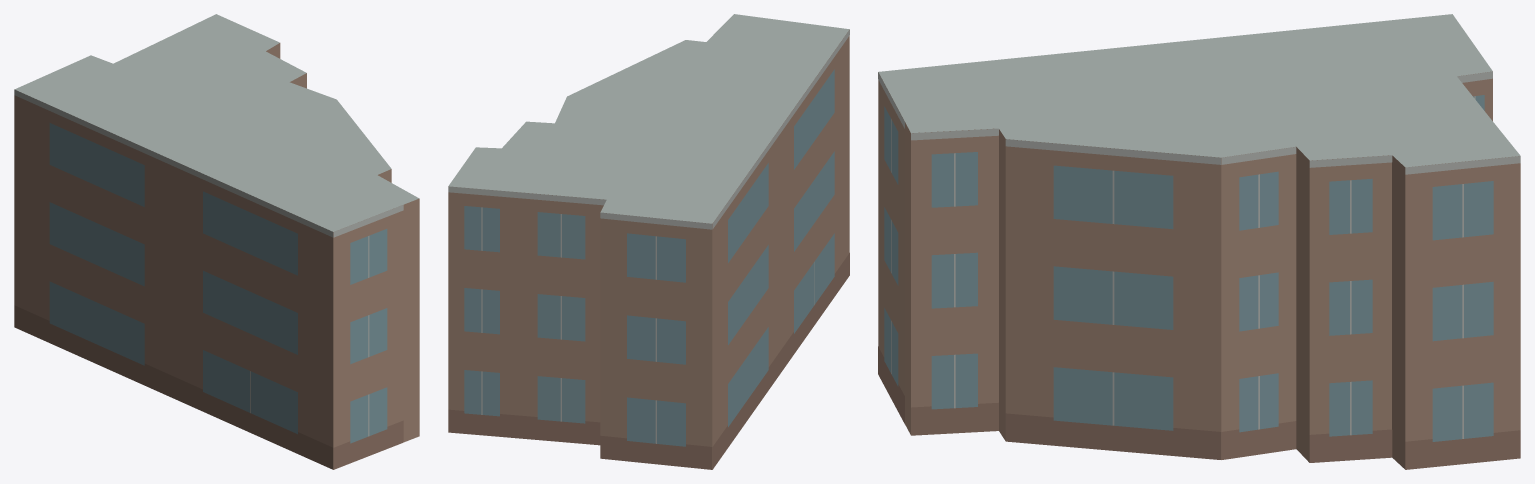
Rendered from survey-upis-32598683.glb.
The picture shows the model from 3 angles, left to right: view 1: azimuth 30°, elevation 25°; view 2: azimuth 150°, elevation 25°; view 3: azimuth 270°, elevation 25°; orthographic projection. The views are drawn at different scales.
Visible parts, largest first — view 1: survey-upis-32598683.tmp; view 2: survey-upis-32598683.tmp; view 3: survey-upis-32598683.tmp.
Boxes of the visible parts, box(x1,y1,x2,y2) form: survey-upis-32598683.tmp: box(14, 14, 419, 469); survey-upis-32598683.tmp: box(448, 14, 849, 469); survey-upis-32598683.tmp: box(878, 14, 1520, 469).
Bounding box in the file's own units: 11 × 10.1 × 19.46.
